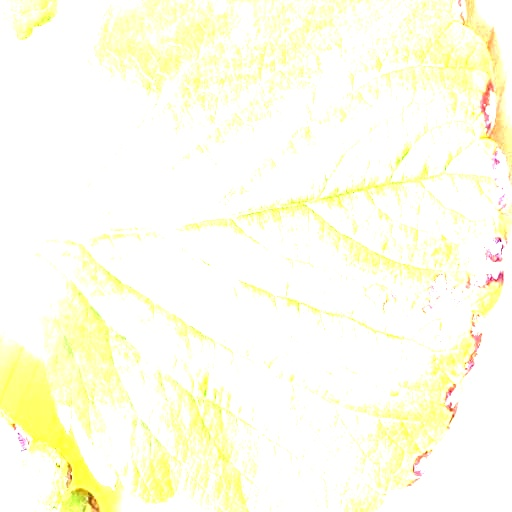Angular Leafspot: (42, 73, 511, 495)
